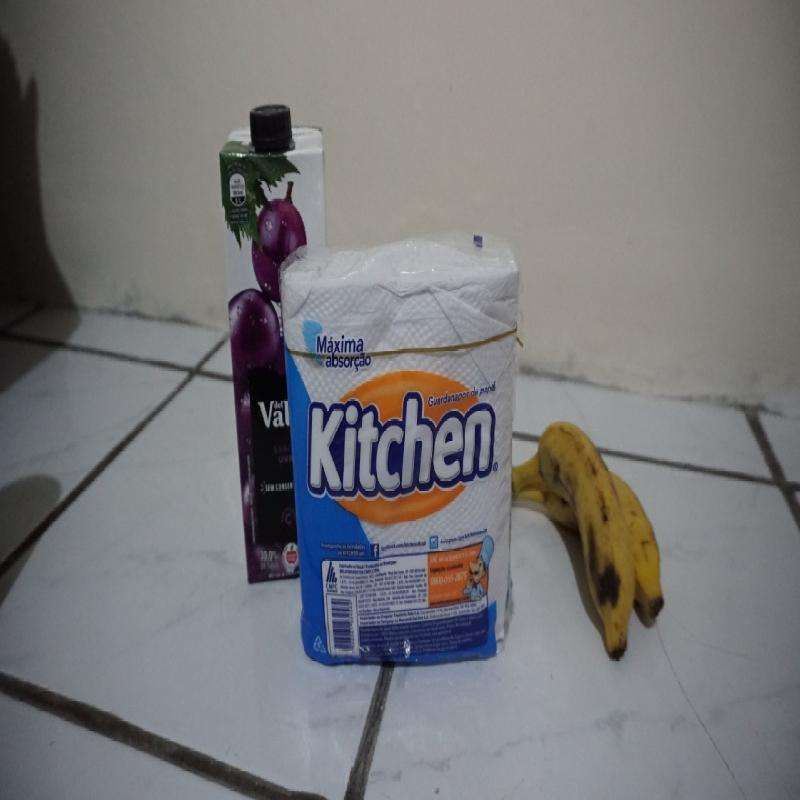Banana: (509, 418, 666, 660)
Napkin: (277, 242, 523, 667)
